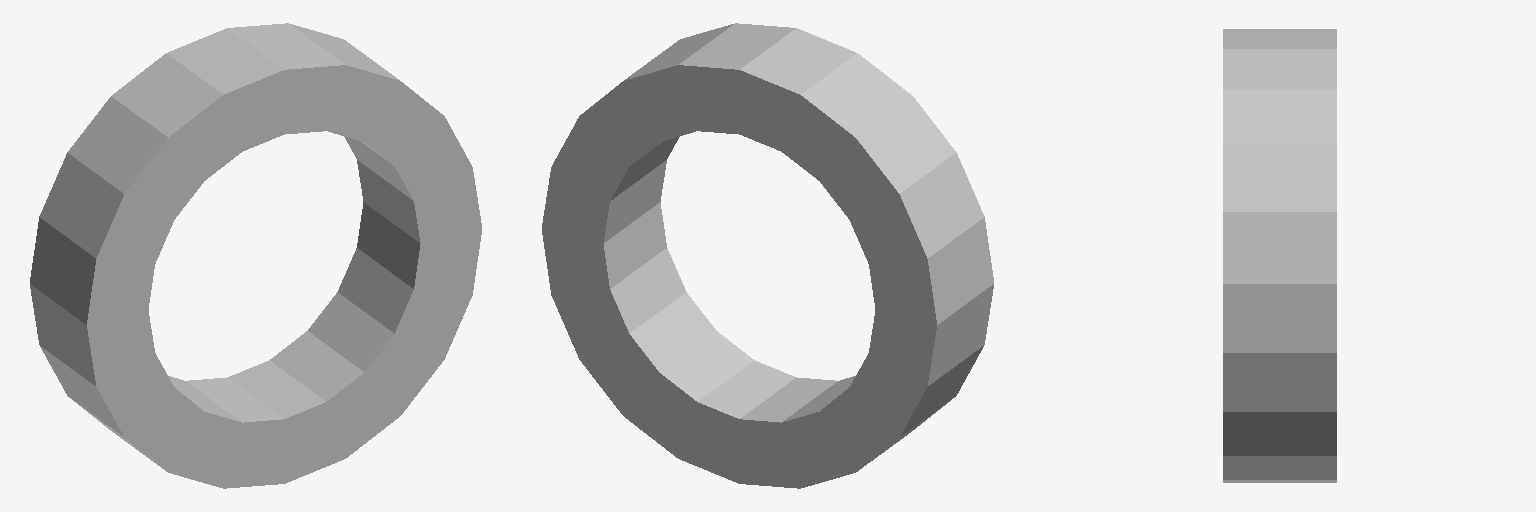
File: CementGrower05.obj
3 views of the same model, side by side, from view 1: azimuth 30°, elevation 25°; view 2: azimuth 150°, elevation 25°; view 3: azimuth 270°, elevation 25° (orthographic).
Visible parts, largest first — view 1: obj_0; view 2: obj_0; view 3: obj_0.
Boxes of the visible parts, x1=… form: obj_0: x1=30, y1=23, x2=481, y2=488; obj_0: x1=542, y1=23, x2=993, y2=488; obj_0: x1=1223, y1=29, x2=1336, y2=482.
Size of the model in its own units: 1 by 1 by 0.25.